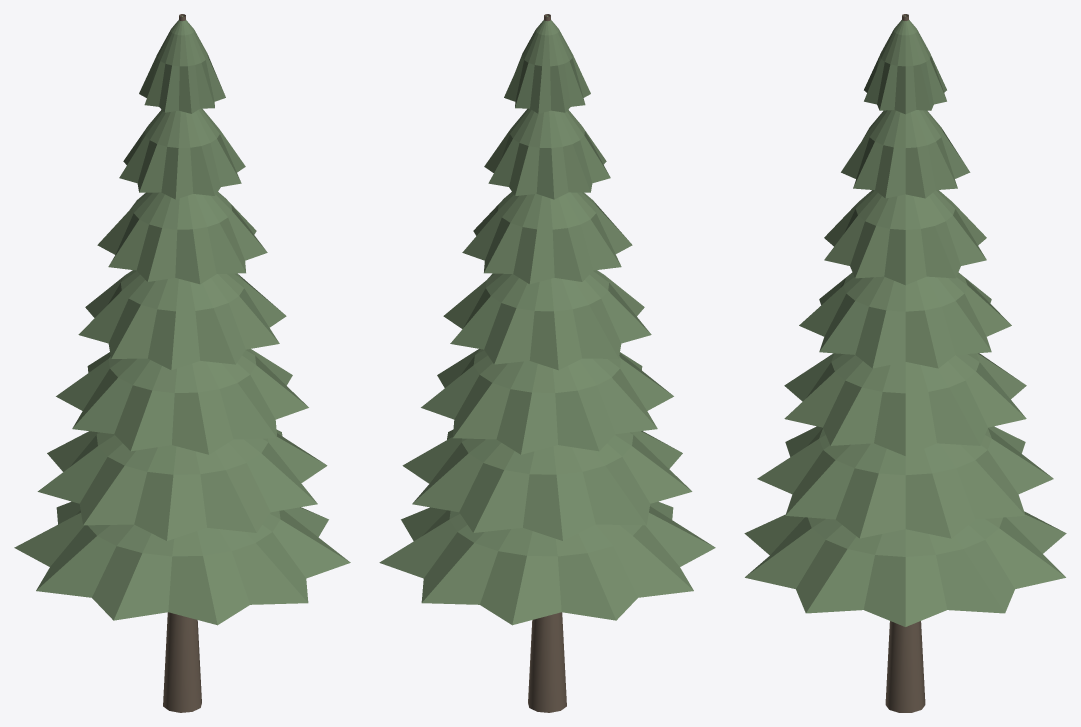
File: conifer_LOD0.fbx
3 renders of one model, left to right at view 1: azimuth 30°, elevation 25°; view 2: azimuth 150°, elevation 25°; view 3: azimuth 270°, elevation 25°, orthographic.
Parts seen in each view (by area): view 1: conifer_LOD0; view 2: conifer_LOD0; view 3: conifer_LOD0.
Part boxes in pixels (<box>): conifer_LOD0: <box>14,14,350,712</box>; conifer_LOD0: <box>379,14,715,712</box>; conifer_LOD0: <box>744,14,1066,712</box>.
Bounding box in the file's own units: 5.35 × 12 × 5.08.
